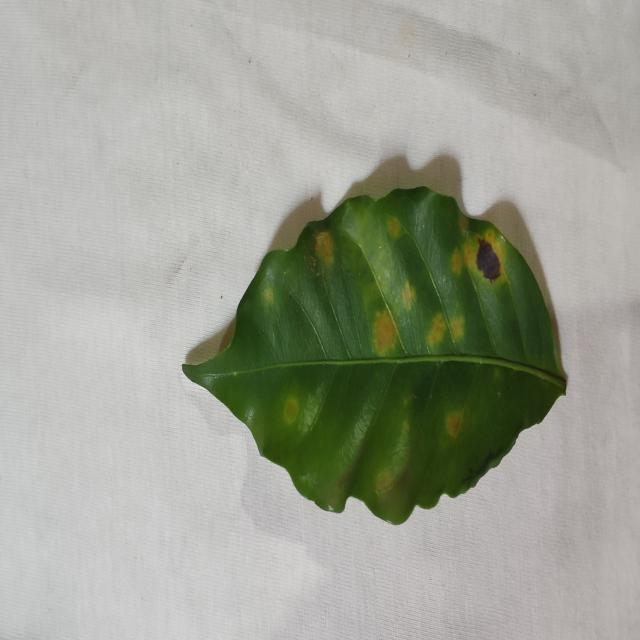Enfermedad-Roya: (183, 186, 568, 527)
